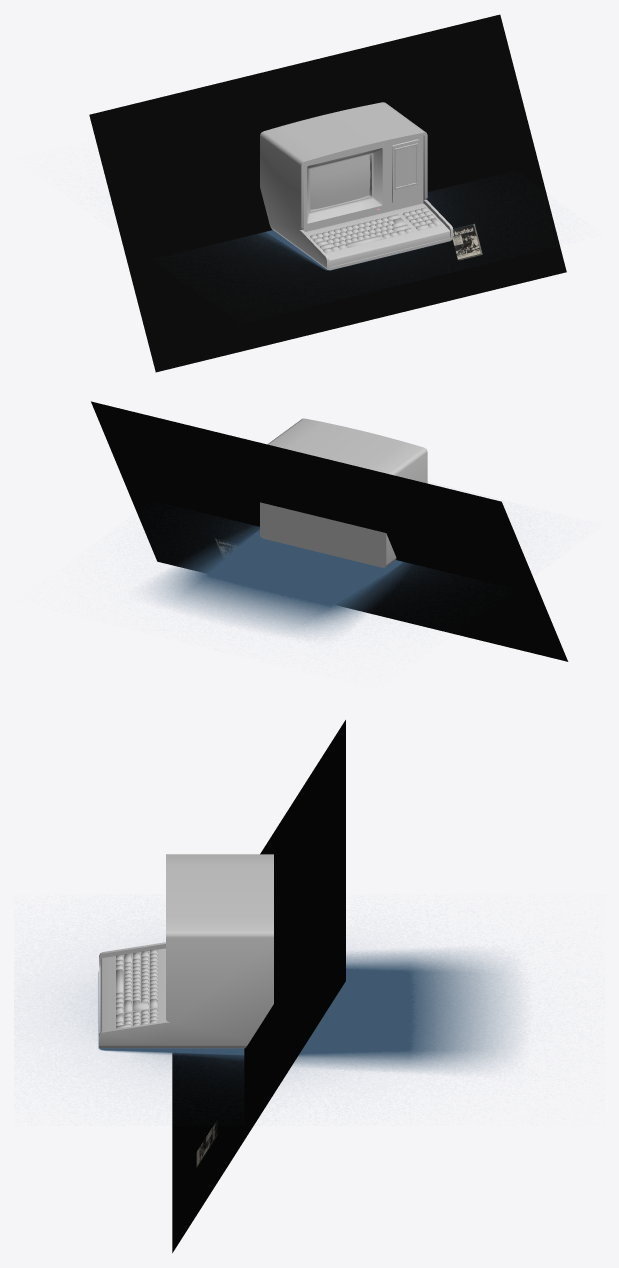
The picture shows the model from 3 angles, top to bottom: view 1: azimuth 30°, elevation 25°; view 2: azimuth 150°, elevation 25°; view 3: azimuth 270°, elevation 25°; orthographic projection. The views are drawn at different scales.
Visible parts, largest first — view 1: Plane, Comp_Screen.002, Comp_Screen.000; view 2: Plane, Comp_Screen.002; view 3: Plane, Comp_Screen.002, Comp_Screen.000.
Part boxes in pixels (<box>): Plane: <box>89,14,566,372</box>; Comp_Screen.002: <box>260,102,453,270</box>; Comp_Screen.000: <box>310,207,441,253</box>; Plane: <box>91,401,568,661</box>; Comp_Screen.002: <box>260,418,427,567</box>; Plane: <box>82,720,519,1252</box>; Comp_Screen.002: <box>99,854,273,1048</box>; Comp_Screen.000: <box>116,949,157,1028</box>.
Size of the model in its own units: 1258 by 611 by 1201.
